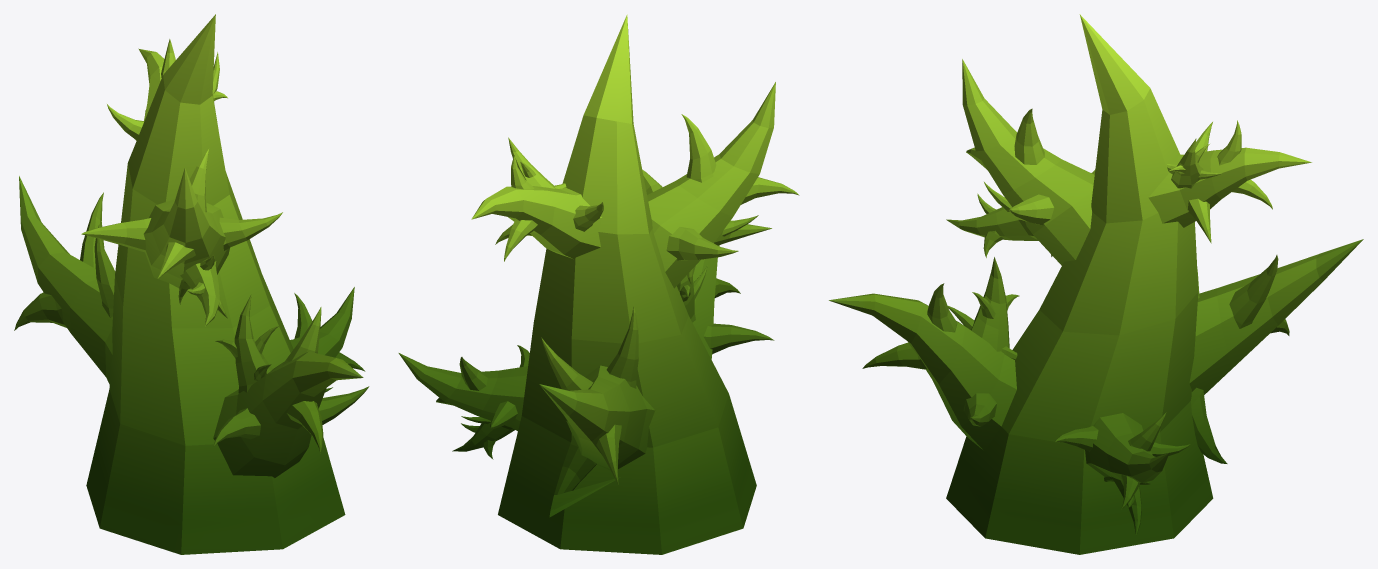
File: SpikeFat.fbx
3 renders of one model, left to right at view 1: azimuth 30°, elevation 25°; view 2: azimuth 150°, elevation 25°; view 3: azimuth 270°, elevation 25°, orthographic.
Parts seen in each view (by area): view 1: SpikeSimple; view 2: SpikeSimple; view 3: SpikeSimple.
Boxes of the visible parts, left/top/right/bottom form: SpikeSimple: left=14, top=14, right=369, bottom=554; SpikeSimple: left=398, top=14, right=799, bottom=554; SpikeSimple: left=829, top=14, right=1363, bottom=554.
Size of the model in its own units: 143 by 216 by 217.
